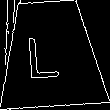L_N: (32, 28, 70, 81)
